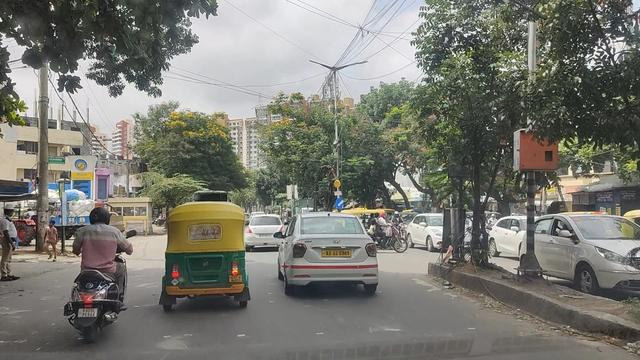LMV: (161, 202, 247, 310), (71, 201, 133, 340), (284, 218, 378, 294)
